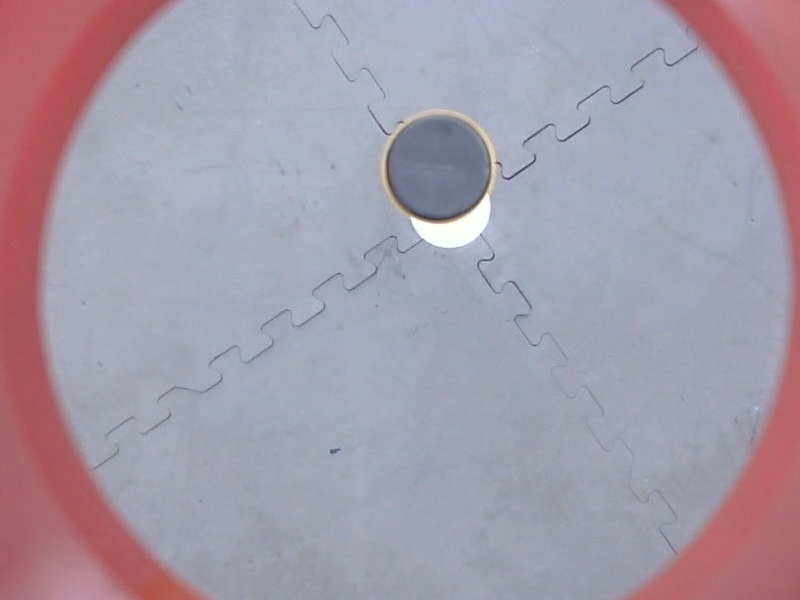tip: (375, 105, 503, 230)
